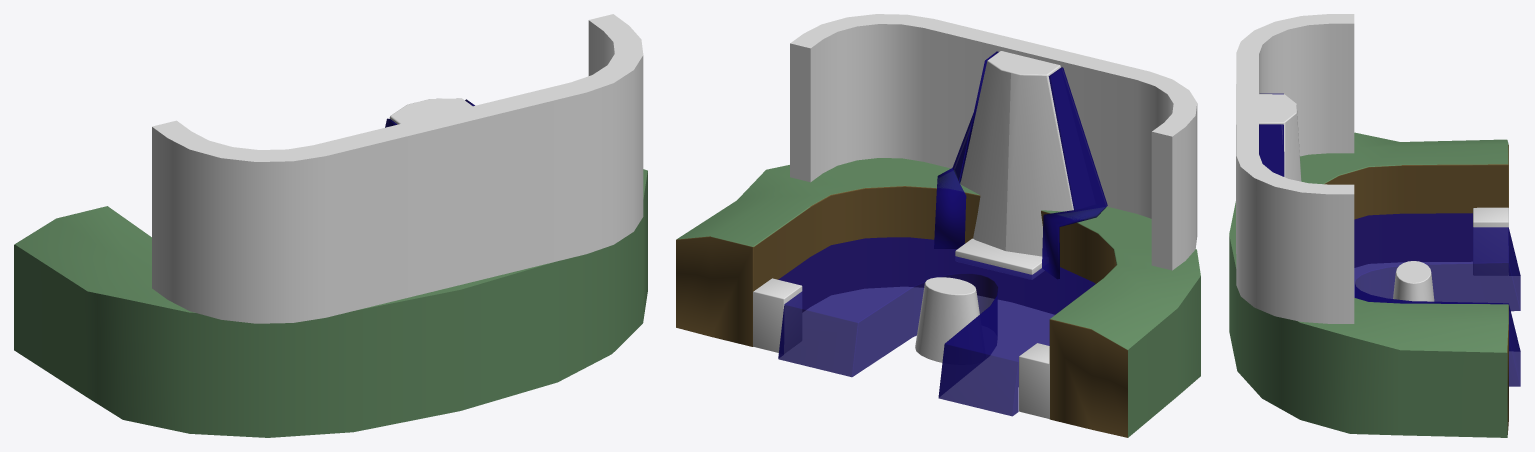
Rendered from Environment 2 v2.fbx.
3 renders of one model, left to right at view 1: azimuth 30°, elevation 25°; view 2: azimuth 150°, elevation 25°; view 3: azimuth 270°, elevation 25°, orthographic. The views are drawn at different scales.
Visible parts, largest first — view 1: Wall_back.001, Ground_cylinder, Mountain.003; view 2: Ground_cylinder, Wall_back.001, Water, Mountain.003, Water_fall, Island_center, Lower Platform, Lower Platform.002, Lower Platform.01; view 3: Ground_cylinder, Wall_back.001, Water, Lower Platform.002, Mountain.003, Island_center, Water_fall.
Boxes of the visible parts, x1=… form: Wall_back.001: x1=152, y1=14, x2=643, y2=323; Ground_cylinder: x1=14, y1=169, x2=647, y2=437; Mountain.003: x1=389, y1=98, x2=472, y2=124; Ground_cylinder: x1=676, y1=158, x2=1200, y2=437; Wall_back.001: x1=790, y1=14, x2=1197, y2=270; Water: x1=778, y1=237, x2=1095, y2=416; Mountain.003: x1=960, y1=51, x2=1073, y2=256; Water_fall: x1=934, y1=51, x2=1107, y2=279; Island_center: x1=915, y1=277, x2=979, y2=362; Lower Platform: x1=753, y1=278, x2=802, y2=353; Lower Platform.002: x1=1019, y1=343, x2=1049, y2=418; Lower Platform.01: x1=955, y1=238, x2=1044, y2=279; Ground_cylinder: x1=1229, y1=132, x2=1508, y2=437; Wall_back.001: x1=1236, y1=14, x2=1354, y2=323; Water: x1=1354, y1=213, x2=1520, y2=386; Lower Platform.002: x1=1473, y1=207, x2=1508, y2=274; Mountain.003: x1=1259, y1=94, x2=1301, y2=181; Island_center: x1=1393, y1=261, x2=1434, y2=301; Water_fall: x1=1259, y1=93, x2=1284, y2=176.
Bounding box in the file's own units: 8477 × 4309 × 4897.
